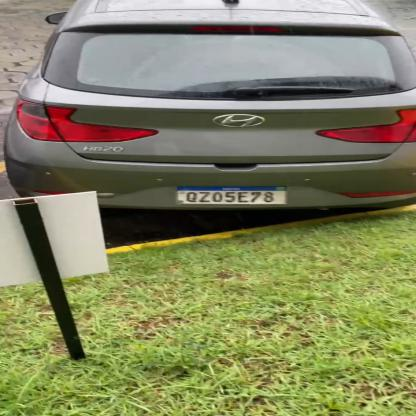Plate: (176, 182, 288, 208)
